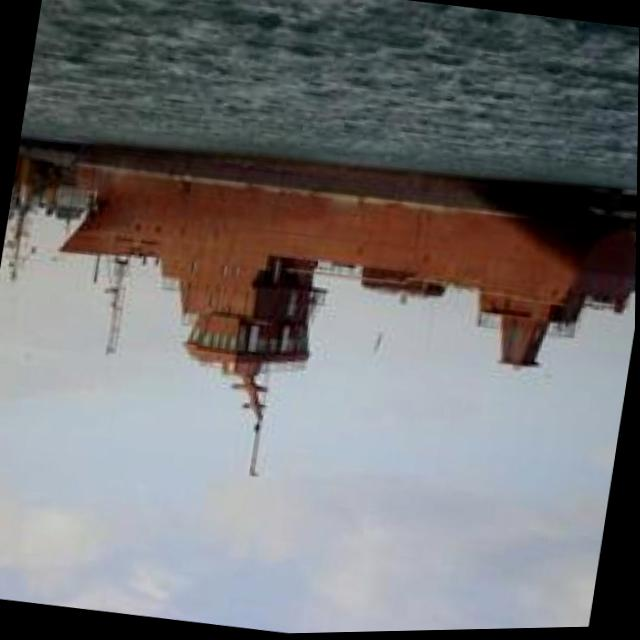ship2: (61, 143, 637, 476)
